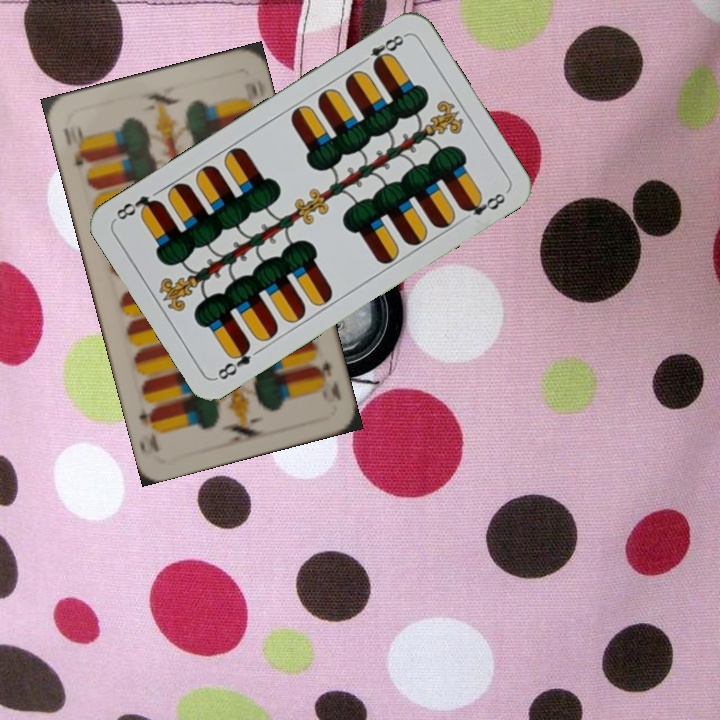E10: (310, 358, 344, 403), (59, 122, 92, 168)
E8: (355, 30, 409, 70), (212, 339, 254, 383)
